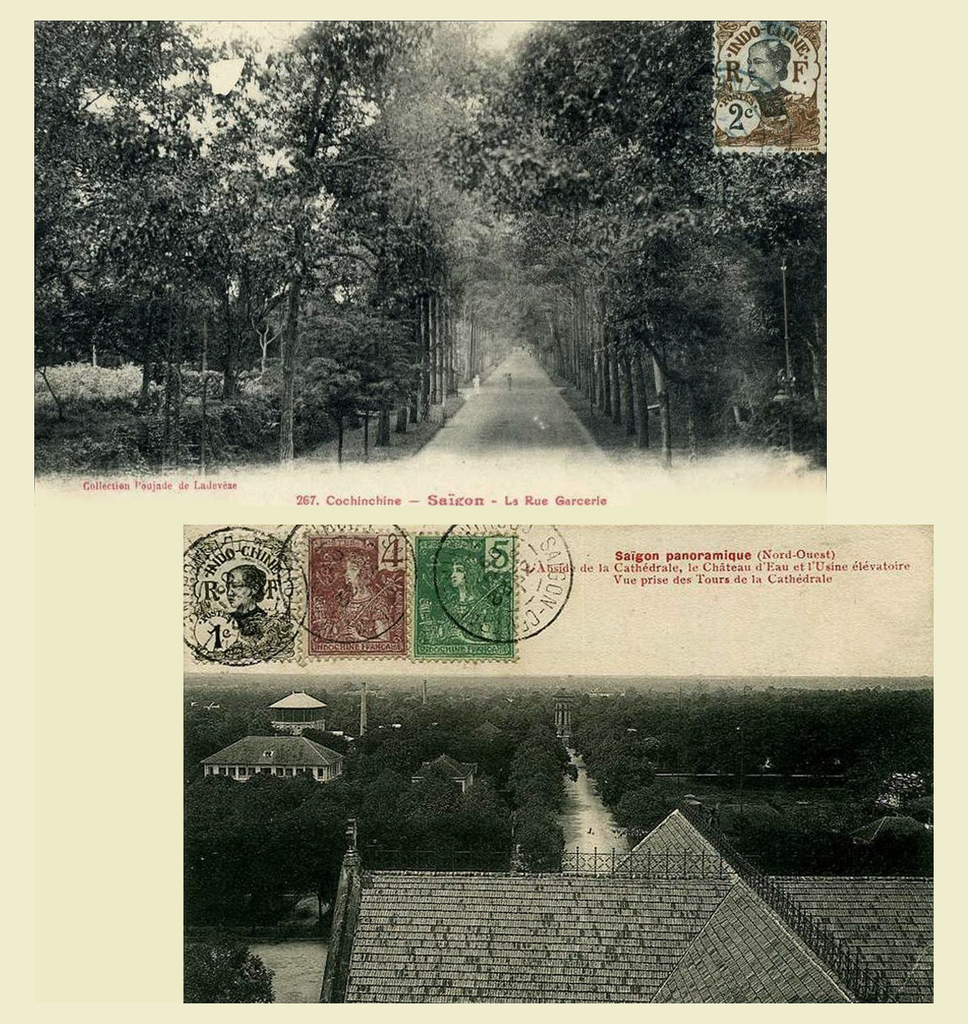Tree: (28, 19, 826, 490), (180, 690, 580, 923), (567, 687, 936, 876), (184, 927, 274, 1004), (502, 803, 557, 870)
